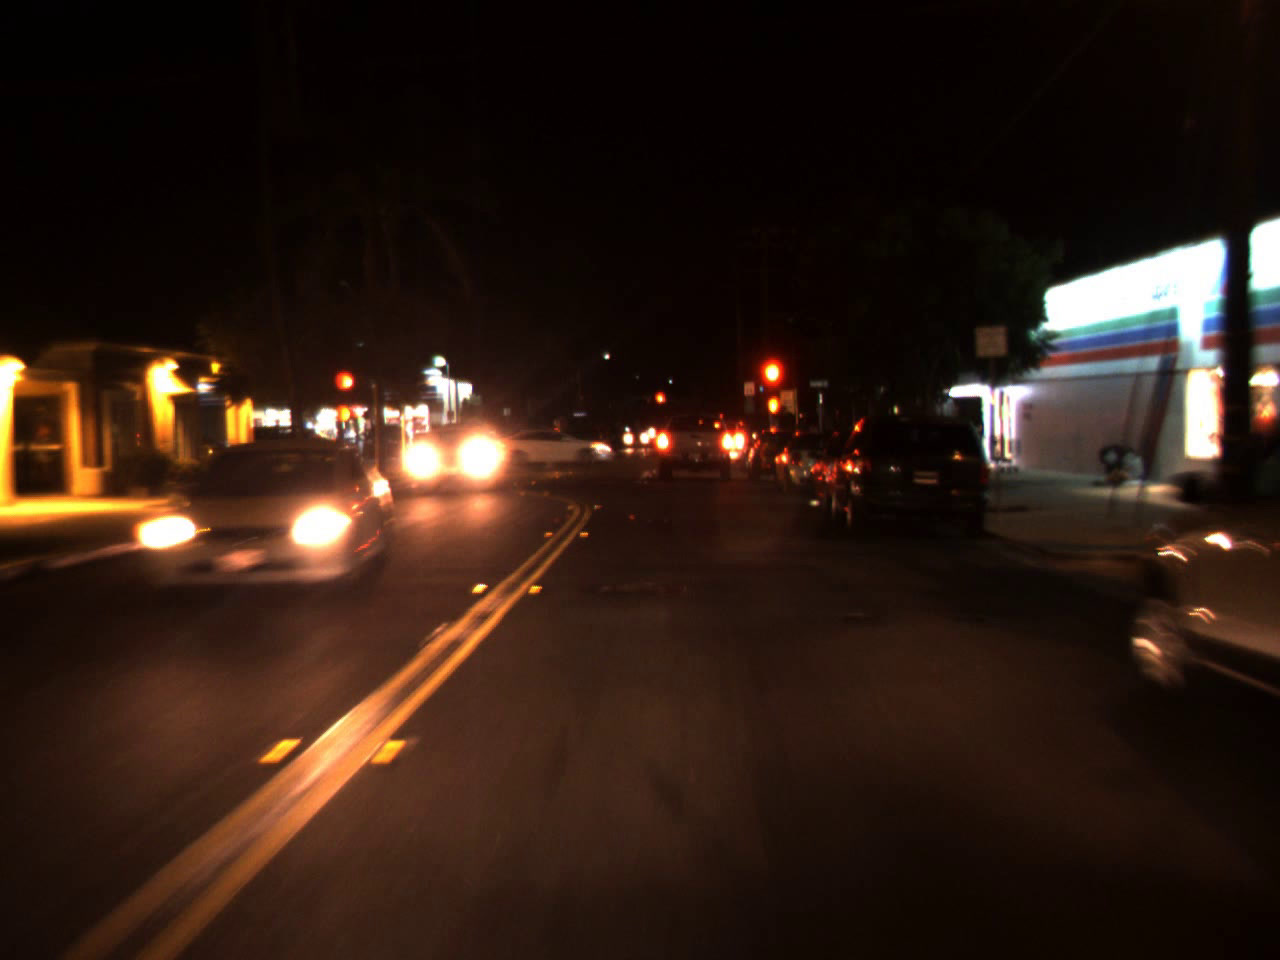stop: (755, 353, 789, 423), (331, 367, 358, 415), (653, 390, 666, 417)
